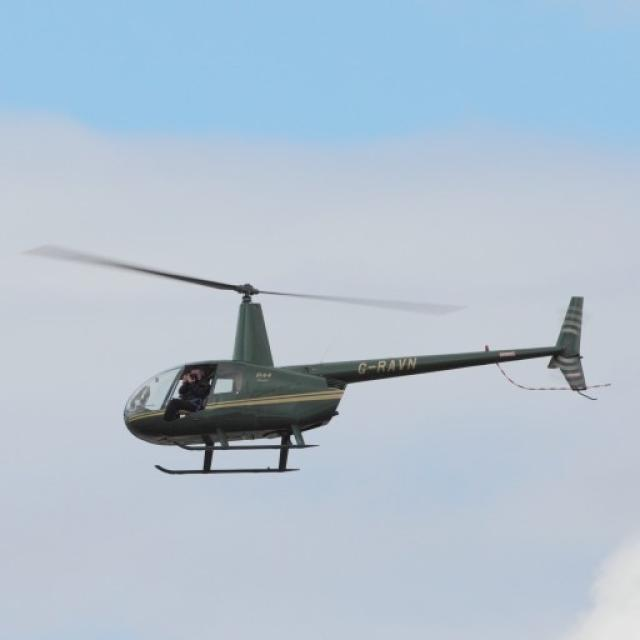CIV_HELO: (122, 275, 592, 480)
